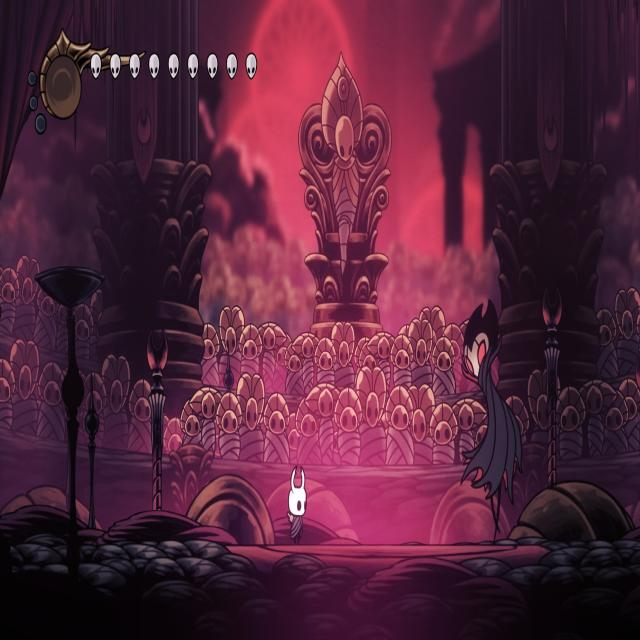Grimm: (458, 294, 526, 542)
Player: (285, 462, 308, 545)
